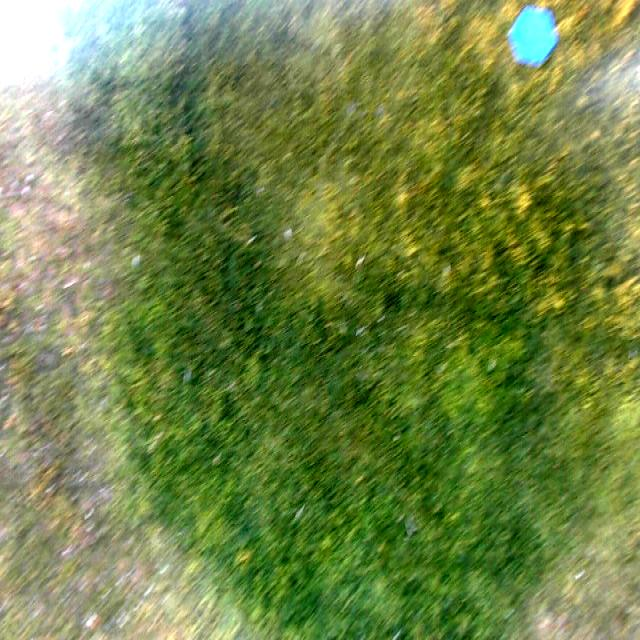blue_hexagon: (509, 6, 557, 66)
